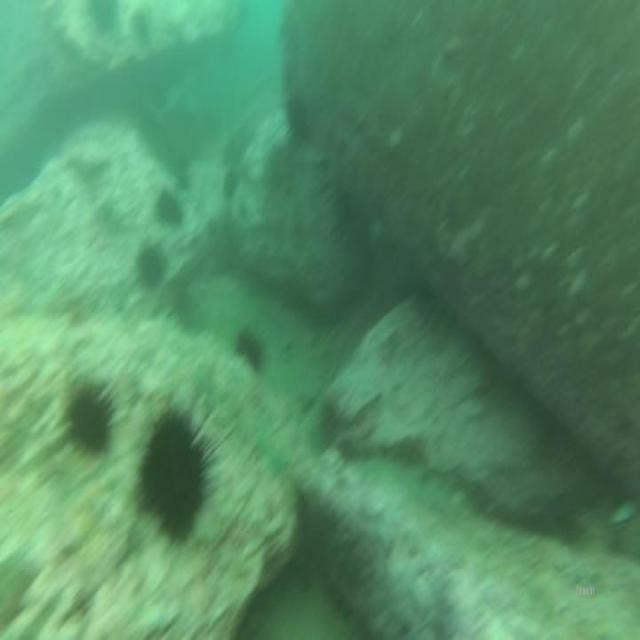echinus: (136, 408, 212, 548), (64, 378, 116, 464), (134, 240, 170, 304), (234, 319, 266, 379), (285, 88, 312, 147), (156, 183, 182, 234)
